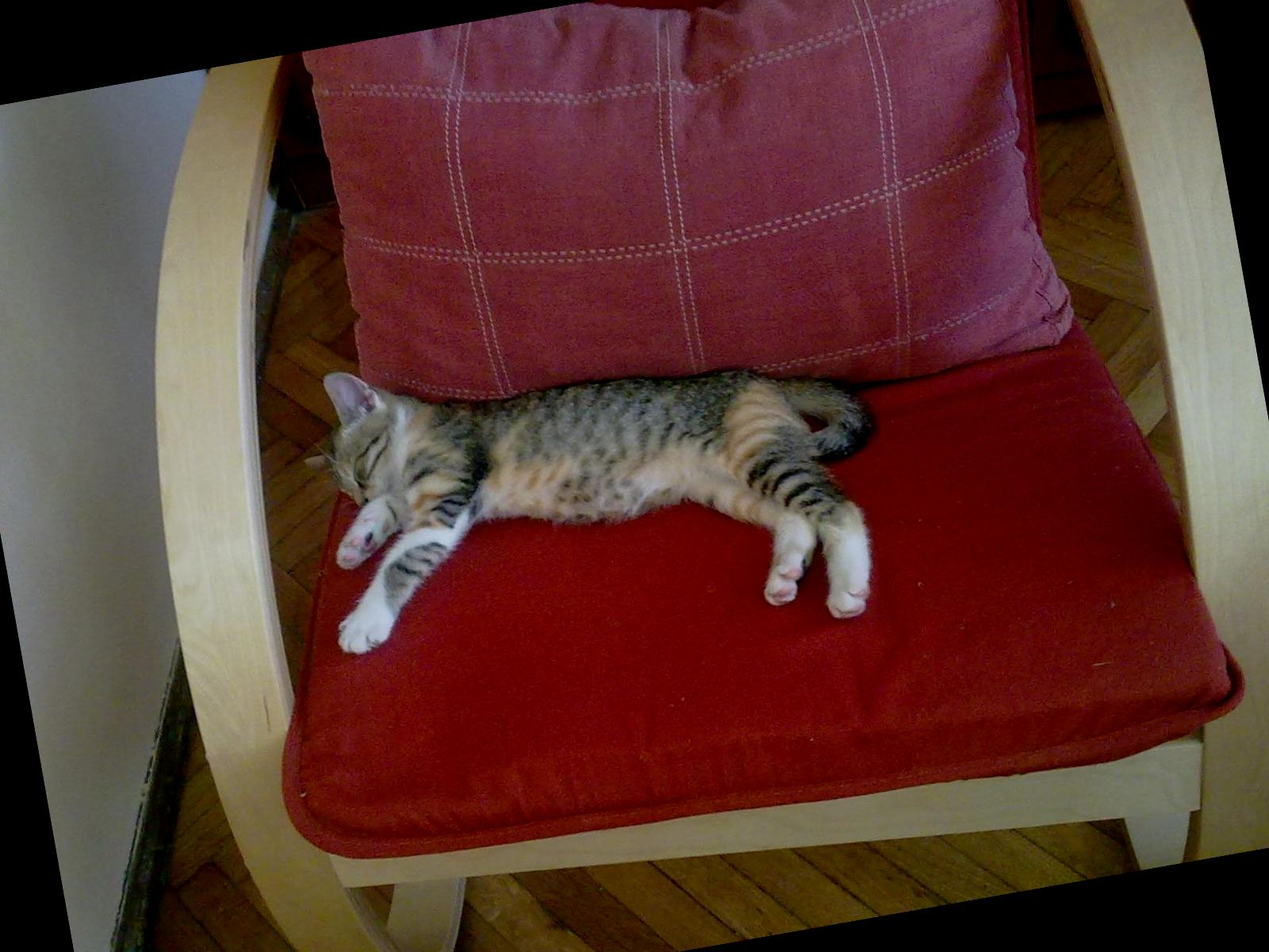macka: (288, 273, 904, 710)
